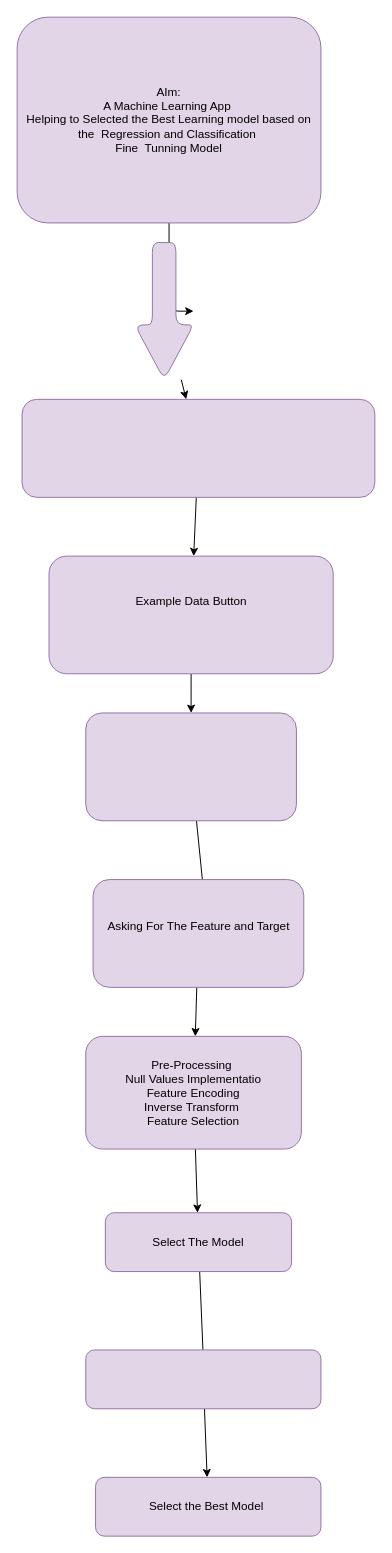
The diagram is 392 pixels wide and 1553 high, and some of its shapes have lost their labels. Here are the shapes that lost their labels. From the top down, the centre of each, then its label:
(x=198, y=447): TASK 1: Load The Data Upload the Data
(x=190, y=766): Check The Coulmns name and data types
(x=203, y=1379): Add the Evalution matrics based on model
